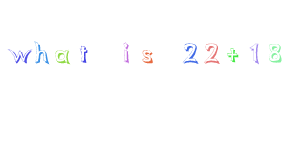+: (225, 46, 243, 66)
1: (248, 38, 262, 68)
2: (177, 42, 201, 72), (204, 39, 222, 68)
8: (266, 41, 287, 67)
a: (54, 46, 73, 69)
h: (33, 35, 52, 73)
i: (117, 39, 134, 69)
s: (140, 46, 162, 72)
t: (76, 40, 92, 65)
w: (3, 37, 32, 70)
